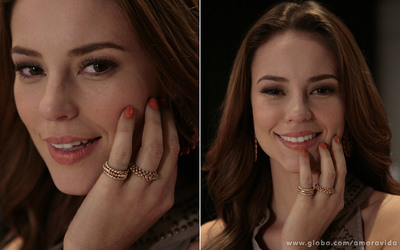mindinho: (95, 98, 141, 199), (296, 149, 315, 207)
